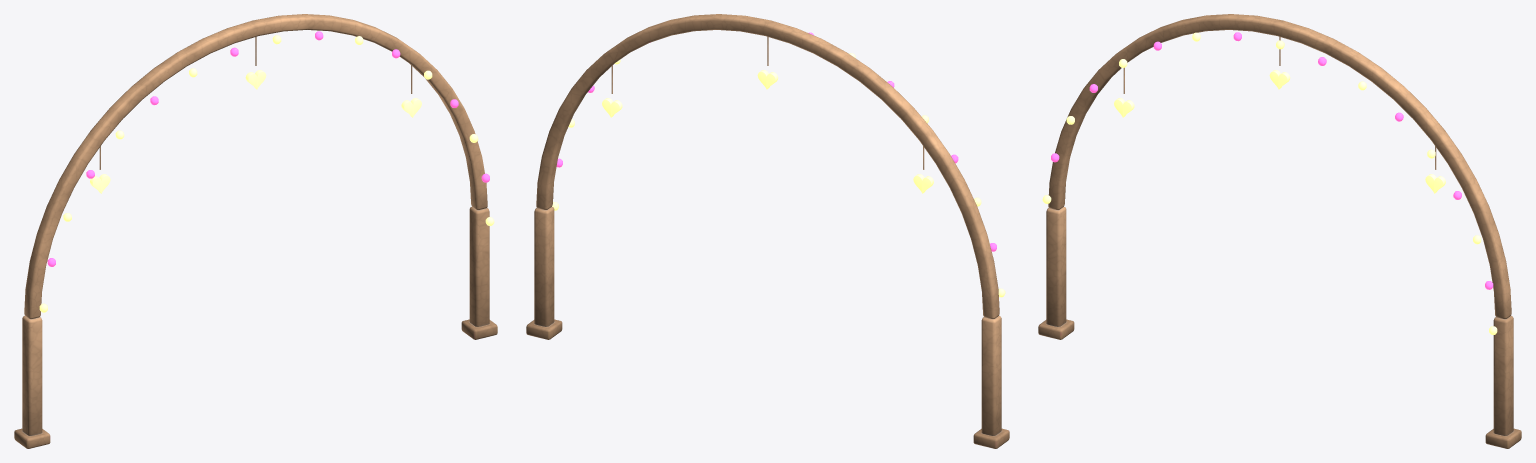
Rendered from sd_lantern_arch.glb.
The picture shows the model from 3 angles, left to right: view 1: azimuth 30°, elevation 25°; view 2: azimuth 150°, elevation 25°; view 3: azimuth 330°, elevation 25°; orthographic projection.
Visible parts, largest first — view 1: sd_lantern_arch; view 2: sd_lantern_arch; view 3: sd_lantern_arch.
Boxes of the visible parts, x1,y1,x2,y2 form: sd_lantern_arch: (14,14,497,448); sd_lantern_arch: (526,14,1009,448); sd_lantern_arch: (1038,14,1521,448).
Size of the model in its own units: 11.8 by 8.76 by 0.8451.
3 materials, 3 textured.
